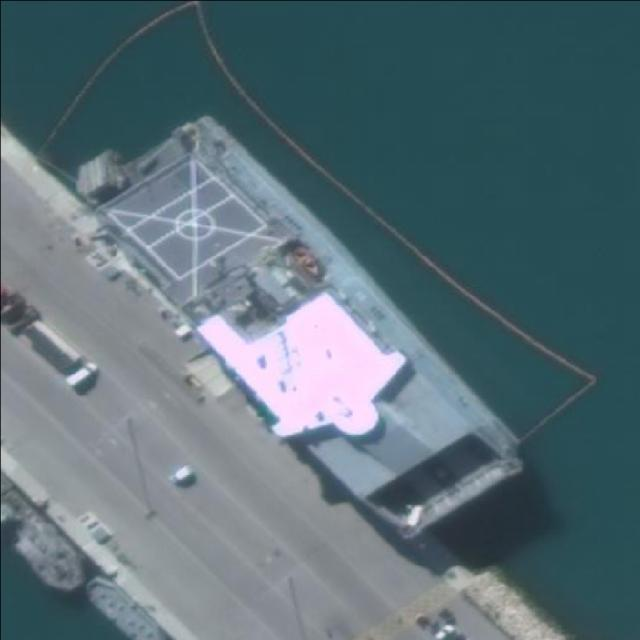Auxiliary Ships: (58, 66, 542, 578)
